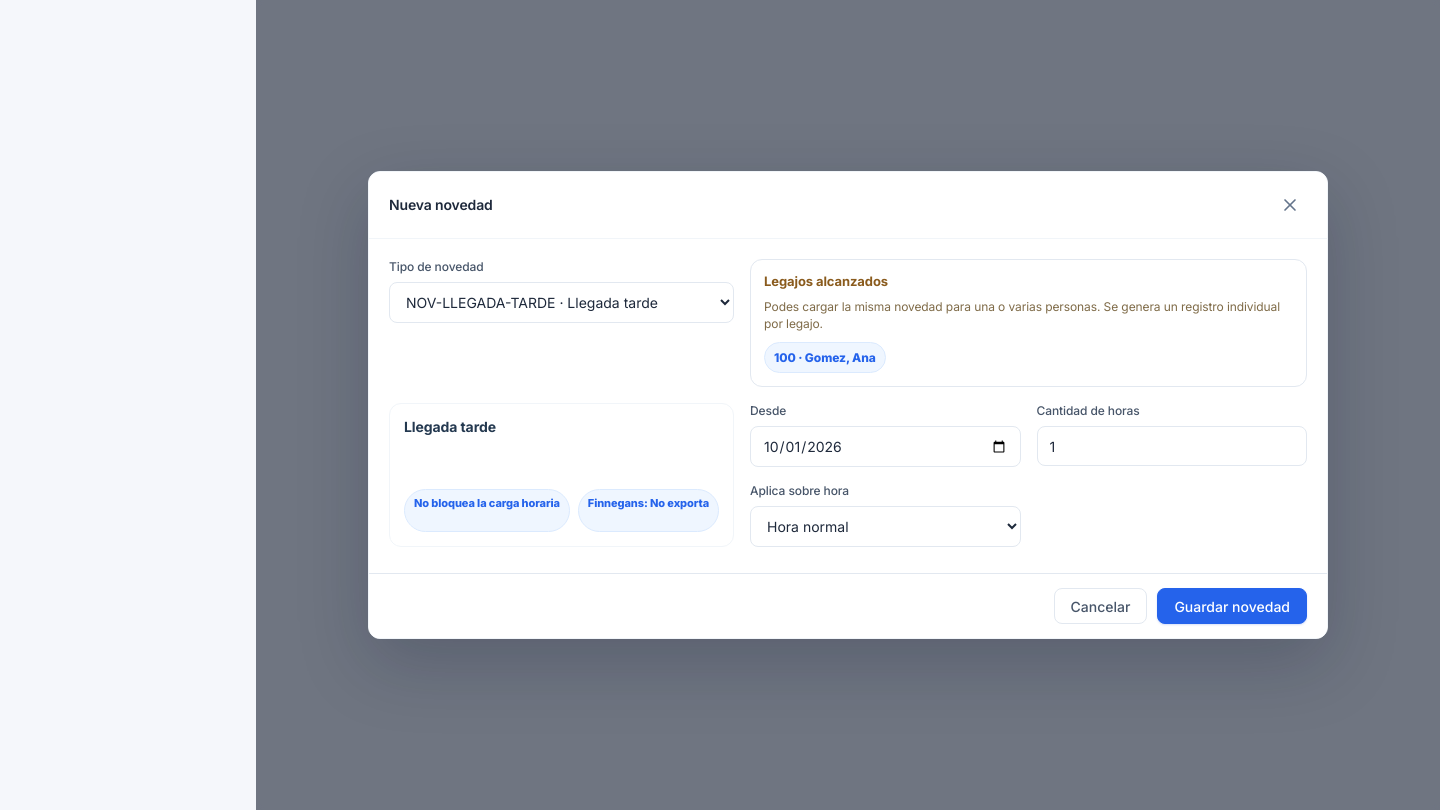
Test: NoveltyModal — Etapa 15G.3 (conflicto de duplicado/solapamiento) › NOVELTY_DUPLICATE: muestra el mensaje especifico del backend (tipo + legajo), no el generico
Expected: the text "Llegada tarde" is shown, [404,418,496,435]
Click the button "Guardar novedad".
click(1232, 606)  # box [1157,588,1307,624]
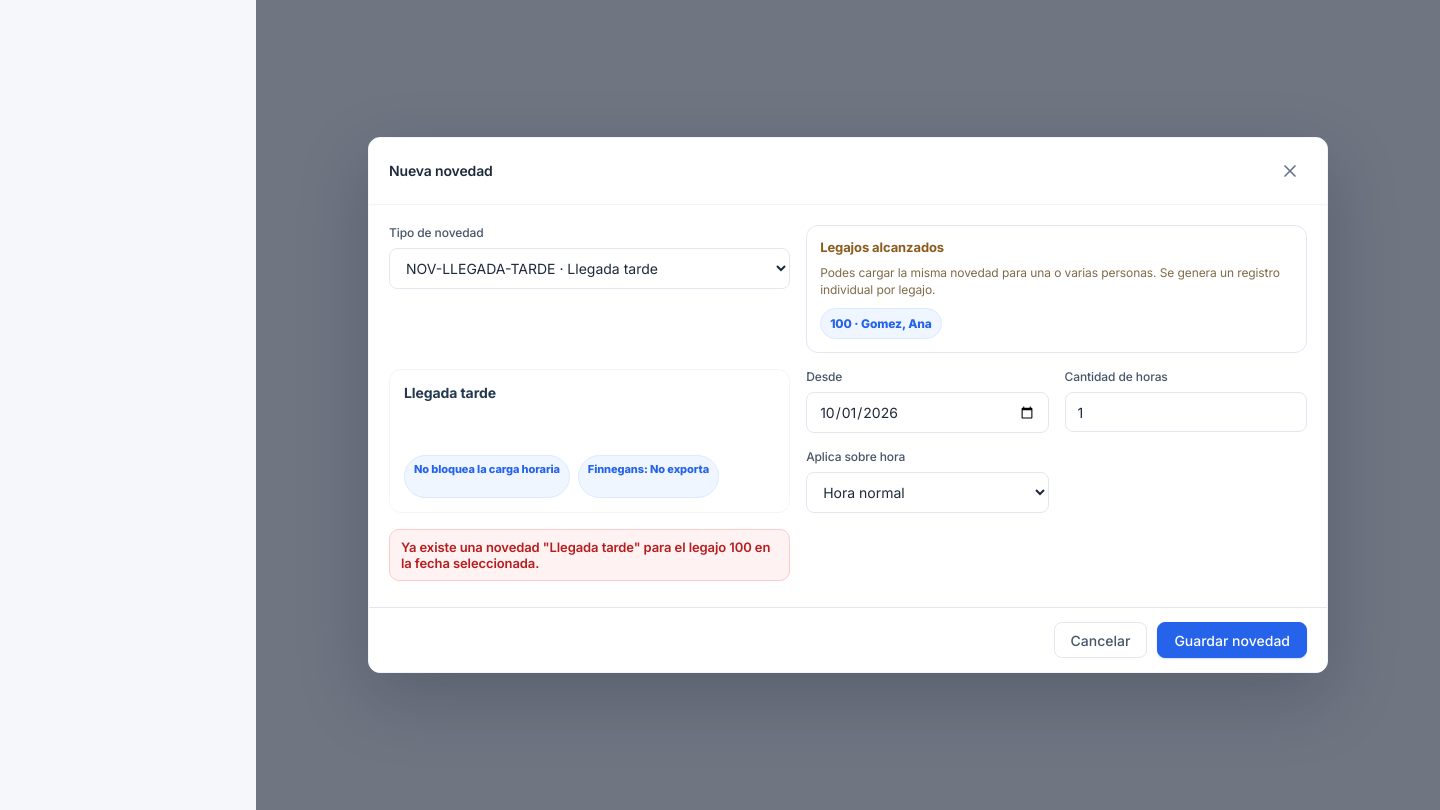
Result: the text "Ya existe una novedad \"Llegada tarde\" para el legajo 100 en la fecha seleccionada." is shown at [401,539,770,571]
